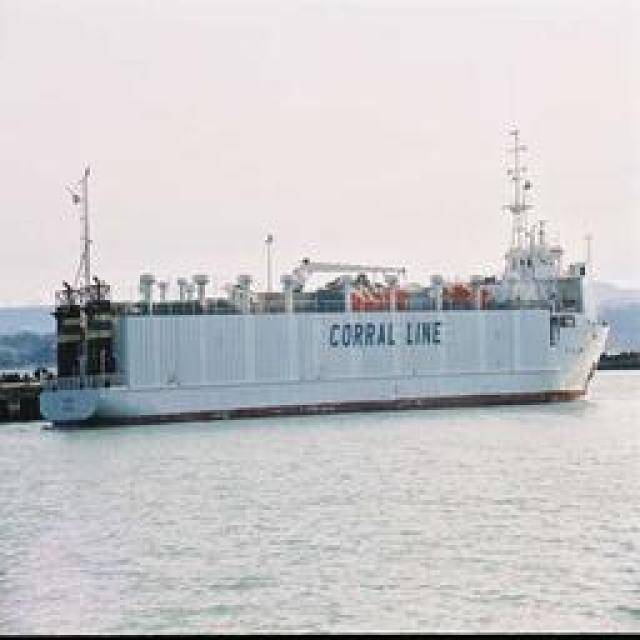CIV_Ship: (48, 128, 612, 426)
